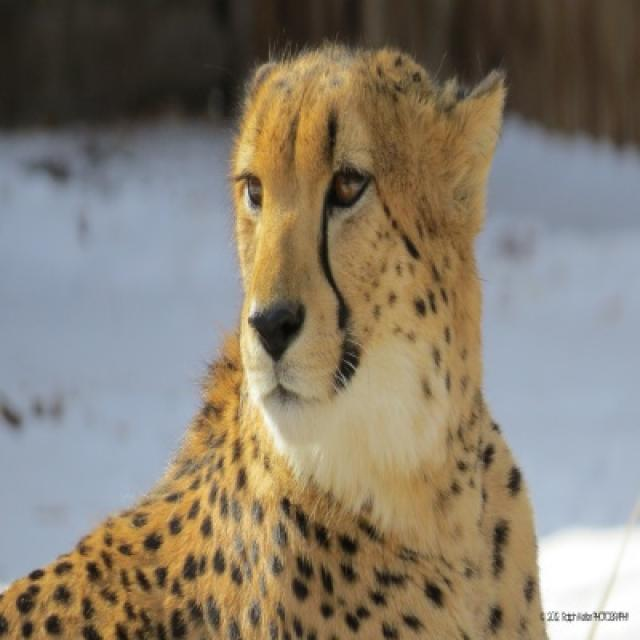Cheetah: (0, 43, 550, 638)
